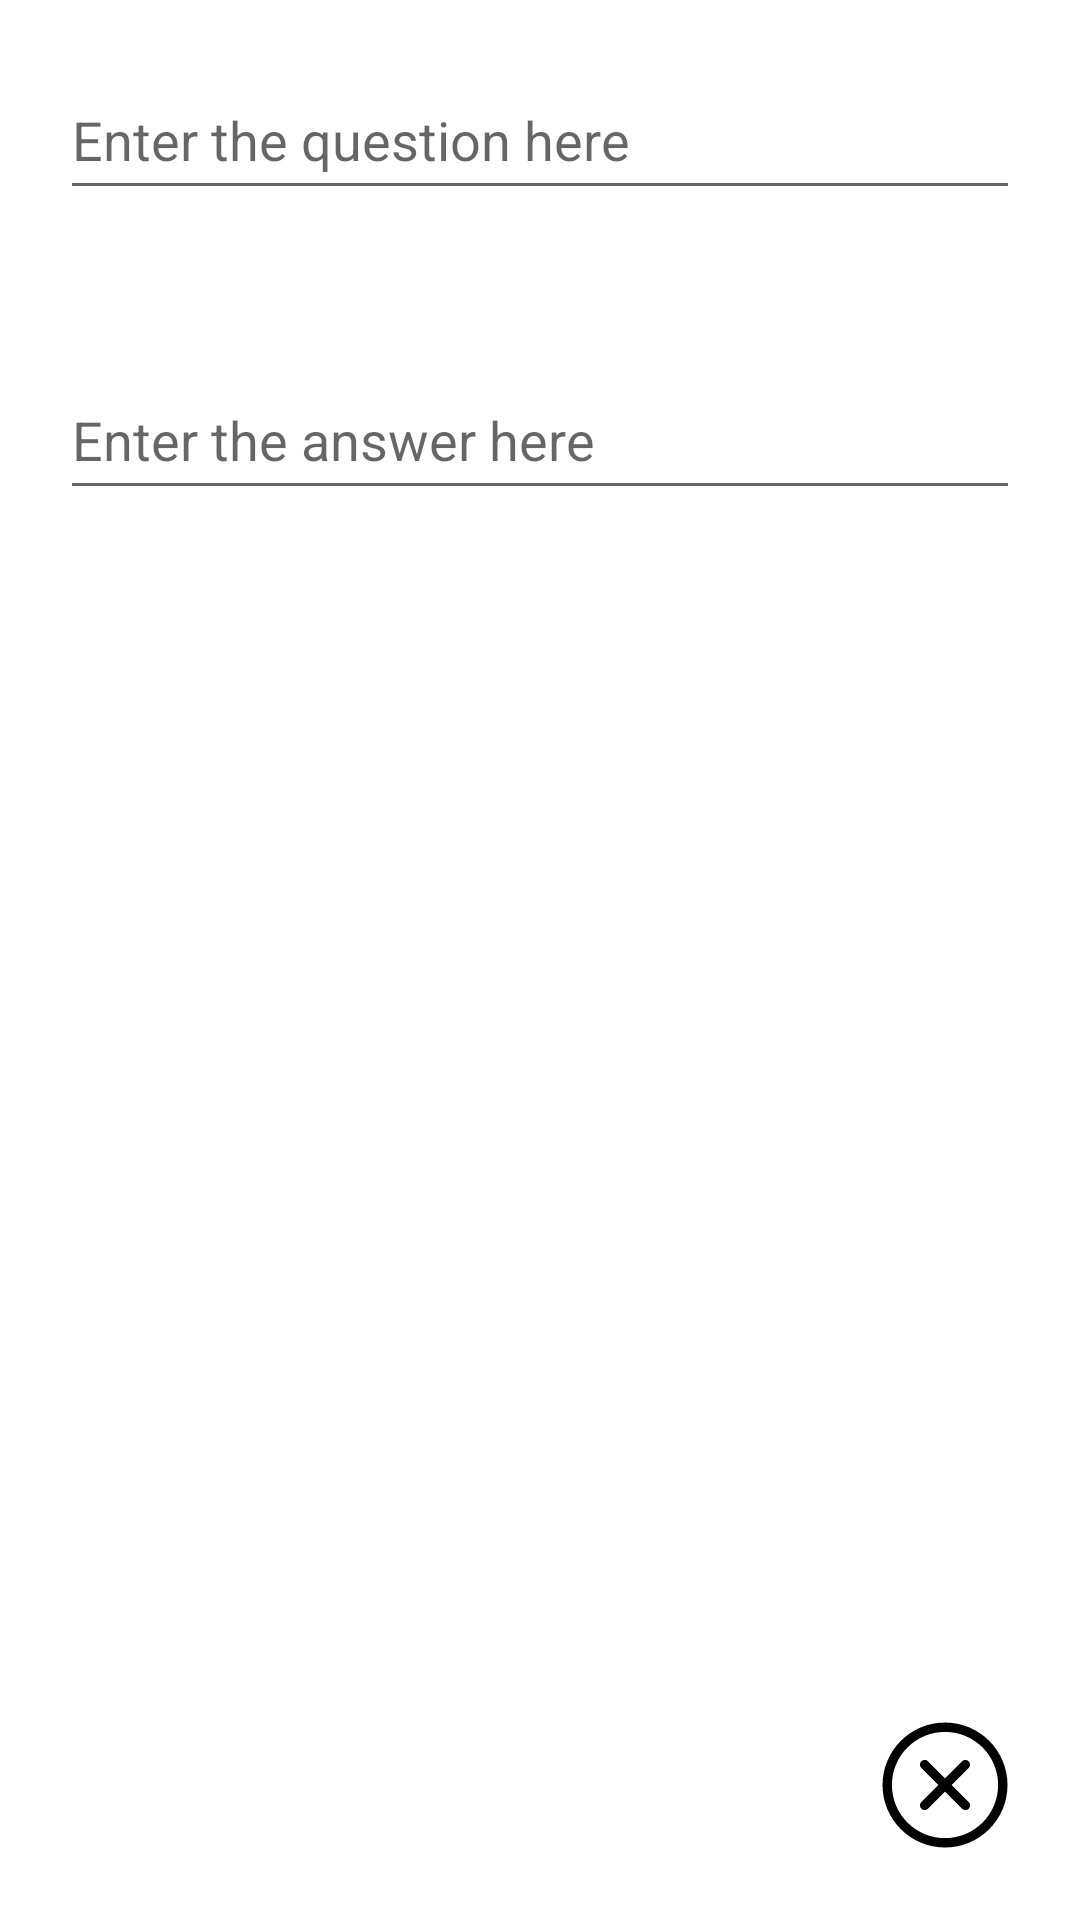

Screen size 1080x1920. Icon name, then its center in pixels as [x,y]:
cancel button: [945,1785]
